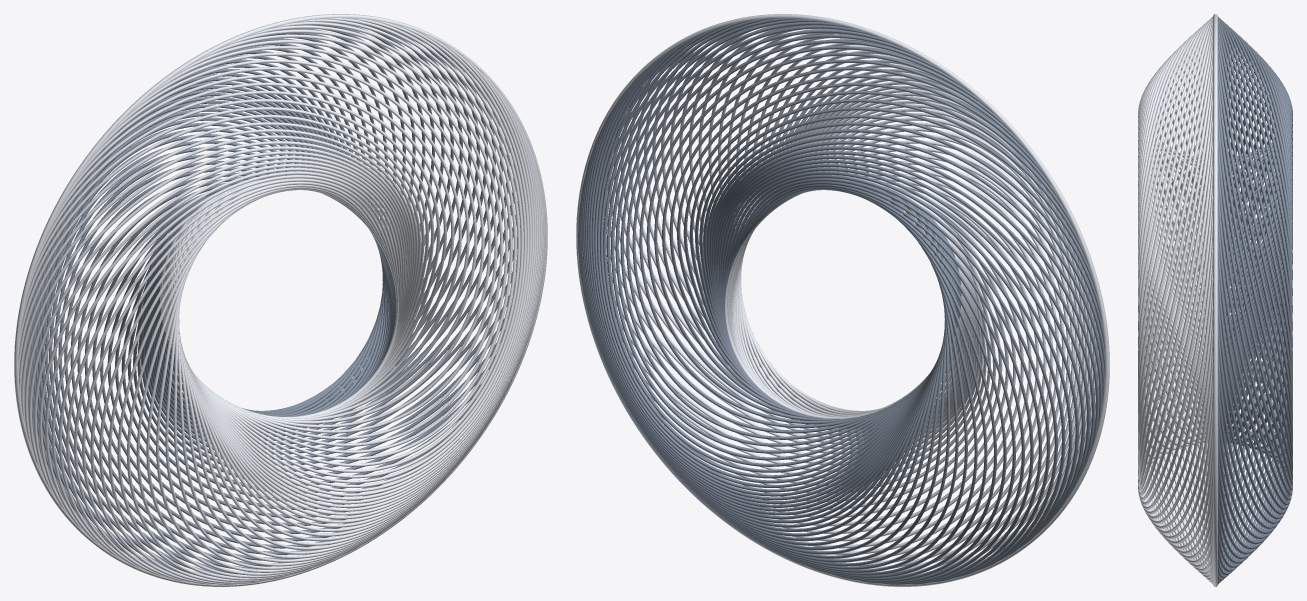
3 renders of one model, left to right at view 1: azimuth 30°, elevation 25°; view 2: azimuth 150°, elevation 25°; view 3: azimuth 270°, elevation 25°, orthographic. The views are drawn at different scales.
Visible parts, largest first — view 1: ONE — aro circular externo, ONE — nervura contínua 17, ONE — nervura contínua 16, ONE — nervura contínua 15, ONE — nervura contínua 18, ONE — nervura contínua 14, ONE — nervura contínua 19, ONE — nervura contínua 13, ONE — nervura contínua 20, ONE — nervura contínua 12, ONE — nervura contínua 21, ONE — nervura contínua 22 (+103 smaller); view 2: ONE — aro circular externo, ONE — nervura contínua 17 — verso, ONE — nervura contínua 16 — verso, ONE — nervura contínua 15 — verso, ONE — nervura contínua 18 — verso, ONE — nervura contínua 14 — verso, ONE — nervura contínua 19 — verso, ONE — nervura contínua 13 — verso, ONE — nervura contínua 20 — verso, ONE — nervura contínua 12 — verso, ONE — nervura contínua 21 — verso, ONE — nervura contínua 22 — verso (+103 smaller); view 3: ONE — aro circular externo, ONE — nervura contínua 13, ONE — nervura contínua 13 — verso, ONE — nervura contínua 14, ONE — nervura contínua 14 — verso, ONE — nervura contínua 15, ONE — nervura contínua 15 — verso, ONE — nervura contínua 16, ONE — nervura contínua 16 — verso, ONE — nervura contínua 12, ONE — nervura contínua 12 — verso, ONE — nervura contínua 11 (+117 smaller).
Boxes of the visible parts, x1,y1,x2,y2 form: ONE — aro circular externo: (14, 14, 547, 586); ONE — nervura contínua 17: (223, 25, 503, 439); ONE — nervura contínua 16: (212, 21, 508, 446); ONE — nervura contínua 15: (207, 19, 512, 453); ONE — nervura contínua 18: (222, 29, 497, 433); ONE — nervura contínua 14: (204, 18, 516, 460); ONE — nervura contínua 19: (196, 34, 491, 428); ONE — nervura contínua 13: (202, 18, 520, 466); ONE — nervura contínua 20: (173, 40, 484, 424); ONE — nervura contínua 12: (200, 20, 523, 472); ONE — nervura contínua 21: (150, 46, 477, 420); ONE — nervura contínua 22: (129, 52, 469, 418); ONE — aro circular externo: (576, 14, 1109, 586); ONE — nervura contínua 17 — verso: (620, 25, 900, 439); ONE — nervura contínua 16 — verso: (615, 21, 911, 446); ONE — nervura contínua 15 — verso: (611, 19, 916, 453); ONE — nervura contínua 18 — verso: (626, 29, 901, 433); ONE — nervura contínua 14 — verso: (607, 18, 919, 460); ONE — nervura contínua 19 — verso: (632, 34, 927, 428); ONE — nervura contínua 13 — verso: (603, 18, 921, 466); ONE — nervura contínua 20 — verso: (639, 40, 950, 424); ONE — nervura contínua 12 — verso: (600, 20, 923, 472); ONE — nervura contínua 21 — verso: (646, 46, 973, 420); ONE — nervura contínua 22 — verso: (654, 52, 994, 418); ONE — aro circular externo: (1213, 14, 1217, 586); ONE — nervura contínua 13: (1138, 86, 1212, 479); ONE — nervura contínua 13 — verso: (1218, 86, 1292, 479); ONE — nervura contínua 14: (1138, 69, 1212, 472); ONE — nervura contínua 14 — verso: (1218, 69, 1292, 472); ONE — nervura contínua 15: (1138, 55, 1212, 469); ONE — nervura contínua 15 — verso: (1218, 55, 1292, 469); ONE — nervura contínua 16: (1138, 42, 1212, 463); ONE — nervura contínua 16 — verso: (1218, 42, 1292, 463); ONE — nervura contínua 12: (1138, 106, 1212, 485); ONE — nervura contínua 12 — verso: (1218, 106, 1292, 485); ONE — nervura contínua 11: (1138, 127, 1212, 490).
Size of the model in its own units: 1.77 by 1.77 by 0.4795.
